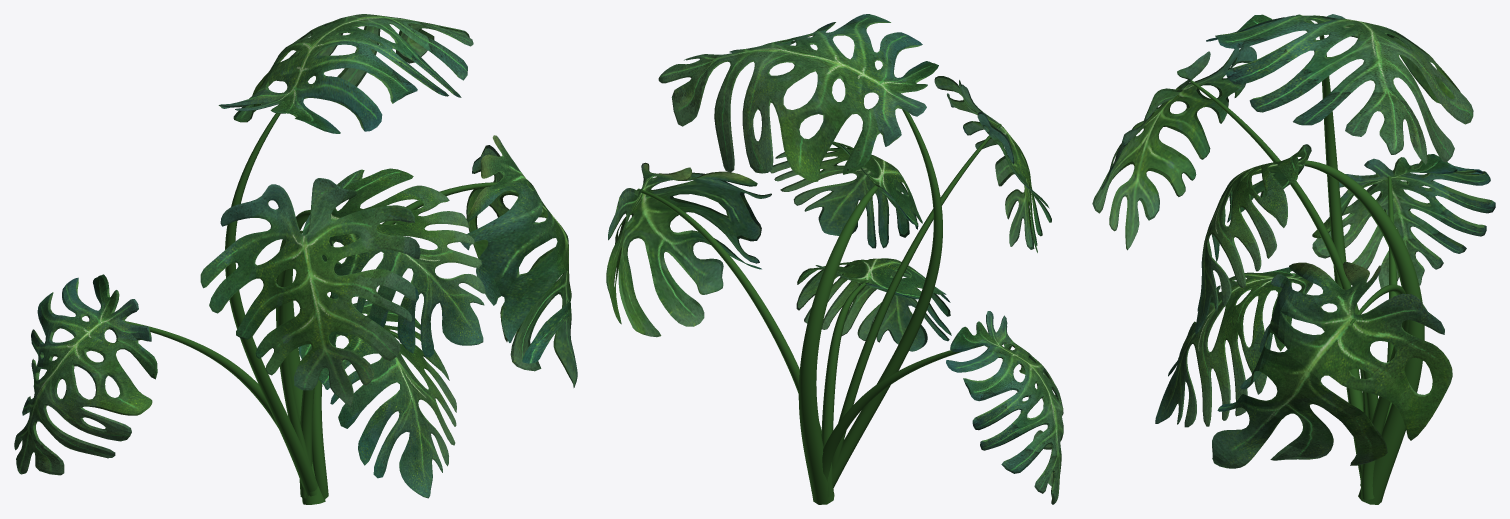
The model's file is monstera_tree.glb.
The picture shows the model from 3 angles, left to right: view 1: azimuth 30°, elevation 25°; view 2: azimuth 150°, elevation 25°; view 3: azimuth 270°, elevation 25°; orthographic projection. The views are drawn at different scales.
Visible parts, largest first — view 1: 6L.004; view 2: 6L.004; view 3: 6L.004.
Boxes of the visible parts, box(x1,y1,x2,y2) form: 6L.004: box(14, 14, 577, 504); 6L.004: box(606, 14, 1063, 504); 6L.004: box(1092, 14, 1495, 504).
Size of the model in its own units: 745 by 666 by 500.
Materials: 3 (2 with a texture image).
